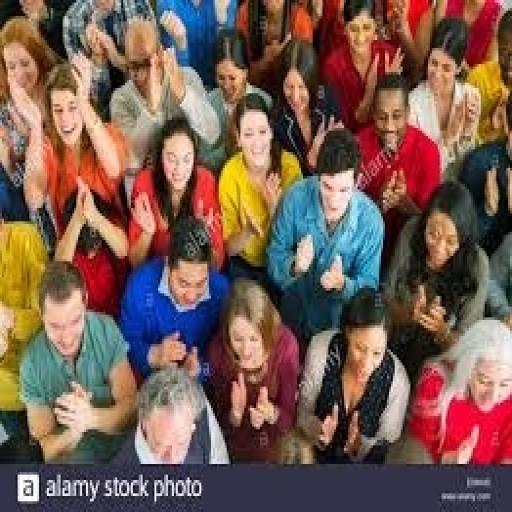clapping: (0, 0, 510, 464)
